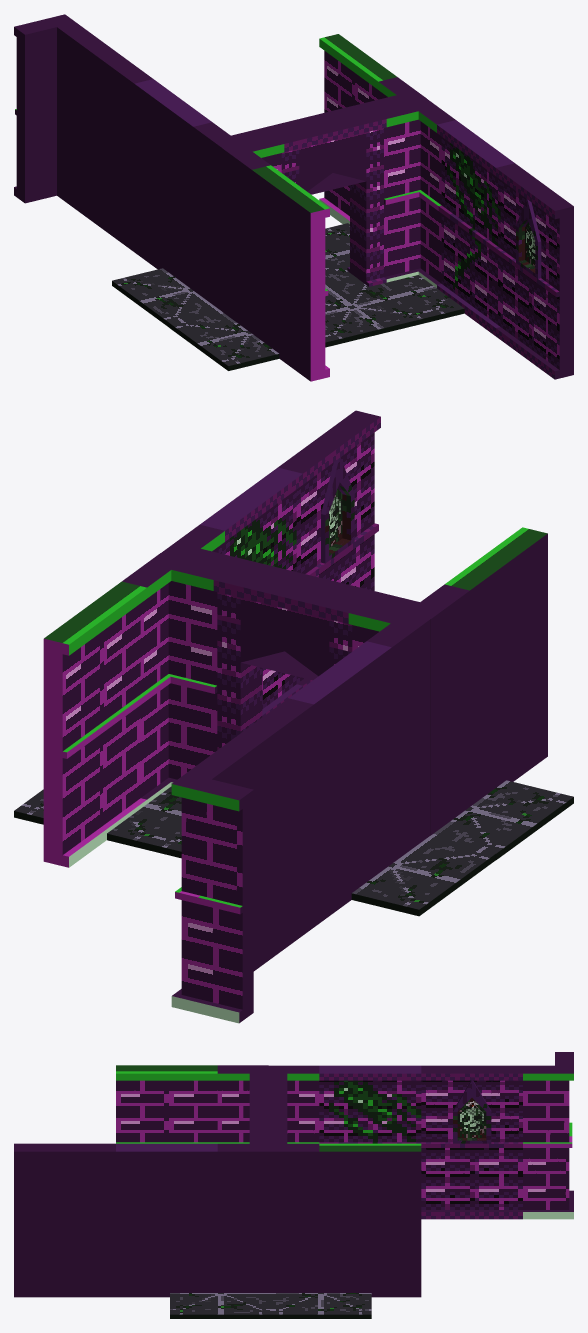
The model's file is ParedesYPisos.fbx.
The picture shows the model from 3 angles, top to bottom: view 1: azimuth 30°, elevation 25°; view 2: azimuth 150°, elevation 25°; view 3: azimuth 270°, elevation 25°; orthographic projection. The views are drawn at different scales.
Parts seen in each view (by area): view 1: Cube.010, Cube.009, ParedVentanalUVTexture, Cube.012, Pared1UVTexturePrueba2, Pared1UVTexturePlanta, Cube.007, Cube.011, Cube.008, Pared1UVTexturePrueba3, Plane.005, Pared1UVTexturePrueba (+7 smaller); view 2: Pared1UVTexturePrueba, Cube.009, Pared1UVTexturePlanta, Pared1UVTexturePrueba2, Cube.005, ParedVentanalUVTexture, ParedPuertaUVTexture, Cube.010, Pared1UVTexturePrueba3, Cube.008, Cube.012, Plane.001 (+5 smaller); view 3: Cube.010, ParedVentanalUVTexture, Pared1UVTexturePrueba, Cube.012, Pared1UVTexturePlanta, Cube.005, Cube.007, Cube.009, Pared1UVTexturePrueba2, Cube.008, Pared1UVTexturePrueba3, Plane.002 (+3 smaller).
Part boxes in pixels (x1=…): Cube.010: x1=496, y1=163, x2=573, y2=379; Cube.009: x1=252, y1=165, x2=329, y2=381; ParedVentanalUVTexture: x1=75, y1=36, x2=152, y2=251; Cube.012: x1=437, y1=120, x2=514, y2=336; Pared1UVTexturePrueba2: x1=14, y1=14, x2=93, y2=208; Pared1UVTexturePlanta: x1=134, y1=79, x2=211, y2=289; Cube.007: x1=376, y1=98, x2=455, y2=287; Cube.011: x1=274, y1=111, x2=386, y2=286; Cube.008: x1=222, y1=136, x2=284, y2=333; Pared1UVTexturePrueba3: x1=193, y1=122, x2=273, y2=311; Plane.005: x1=325, y1=278, x2=432, y2=345; Pared1UVTexturePrueba: x1=319, y1=34, x2=396, y2=224; Pared1UVTexturePrueba: x1=43, y1=581, x2=146, y2=867; Cube.009: x1=445, y1=527, x2=547, y2=806; Pared1UVTexturePlanta: x1=289, y1=641, x2=391, y2=927; Pared1UVTexturePrueba2: x1=171, y1=755, x2=253, y2=1023; Cube.005: x1=122, y1=553, x2=227, y2=803; ParedVentanalUVTexture: x1=211, y1=698, x2=313, y2=971; ParedPuertaUVTexture: x1=213, y1=569, x2=362, y2=749; Cube.010: x1=278, y1=410, x2=380, y2=687; Pared1UVTexturePrueba3: x1=348, y1=602, x2=430, y2=863; Cube.008: x1=364, y1=584, x2=469, y2=835; Cube.012: x1=200, y1=467, x2=302, y2=717; Plane.001: x1=351, y1=836, x2=496, y2=916; Cube.010: x1=14, y1=1143, x2=115, y2=1297; ParedVentanalUVTexture: x1=421, y1=1065, x2=522, y2=1219; Pared1UVTexturePrueba: x1=319, y1=1143, x2=421, y2=1297; Cube.012: x1=116, y1=1143, x2=217, y2=1297; Pared1UVTexturePlanta: x1=319, y1=1065, x2=421, y2=1143; Cube.005: x1=268, y1=1130, x2=319, y2=1292; Cube.007: x1=217, y1=1130, x2=268, y2=1292; Cube.009: x1=116, y1=1065, x2=217, y2=1143; Pared1UVTexturePrueba2: x1=523, y1=1052, x2=573, y2=1219; Cube.008: x1=217, y1=1065, x2=268, y2=1143; Pared1UVTexturePrueba3: x1=268, y1=1065, x2=319, y2=1143; Plane.002: x1=270, y1=1293, x2=371, y2=1318.
Bounding box in the file's own units: 1921 × 1010 × 3518.
